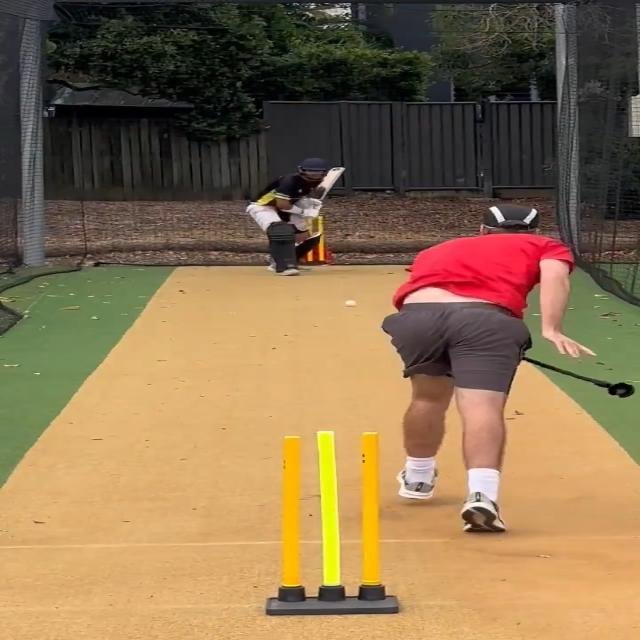ball: (344, 299, 358, 308)
stump: (262, 430, 403, 618)
